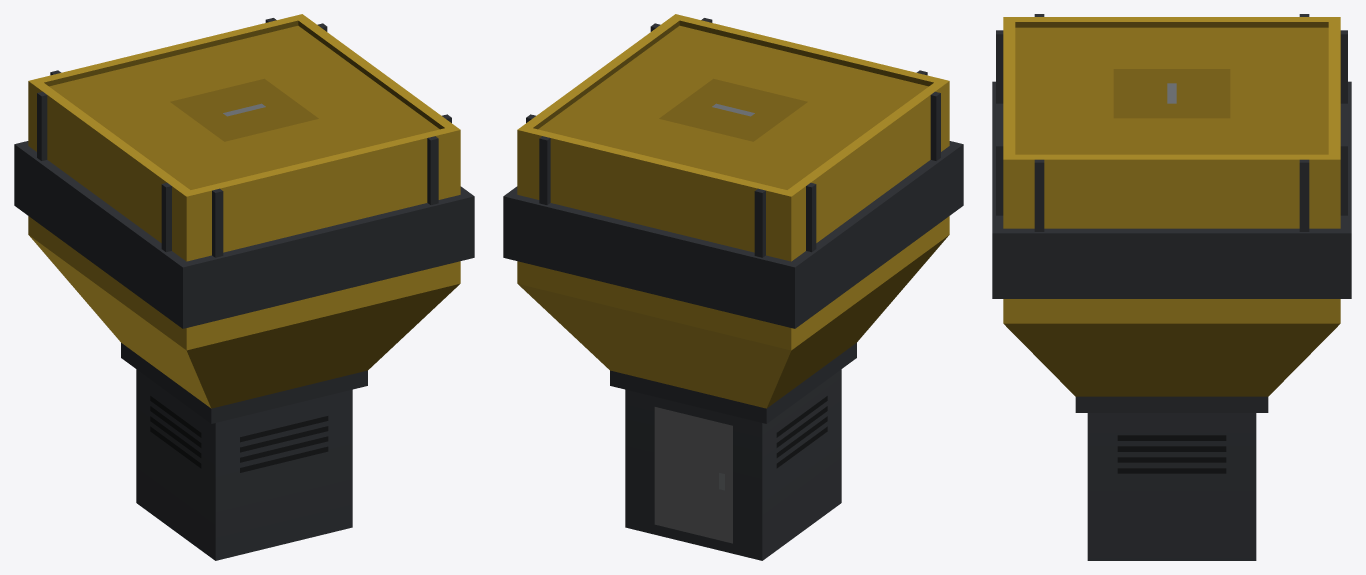
The model's file is hopper.tall.yellow.glb.
3 renders of one model, left to right at view 1: azimuth 30°, elevation 25°; view 2: azimuth 150°, elevation 25°; view 3: azimuth 270°, elevation 25°, orthographic. The views are drawn at different scales.
Parts seen in each view (by area): view 1: hopper_tall_yellow; view 2: hopper_tall_yellow; view 3: hopper_tall_yellow.
Boxes of the visible parts, box(x1,y1,x2,y2) form: hopper_tall_yellow: box(14, 14, 474, 560); hopper_tall_yellow: box(503, 14, 963, 560); hopper_tall_yellow: box(992, 14, 1351, 560).
Size of what is drawn, in the model's own units: 2.98 by 4 by 2.98.
